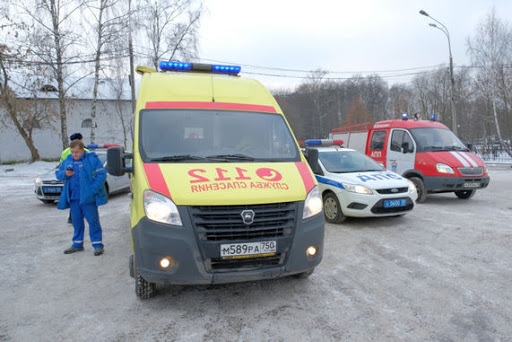special: (125, 60, 326, 301), (326, 120, 486, 202), (297, 140, 417, 223)
